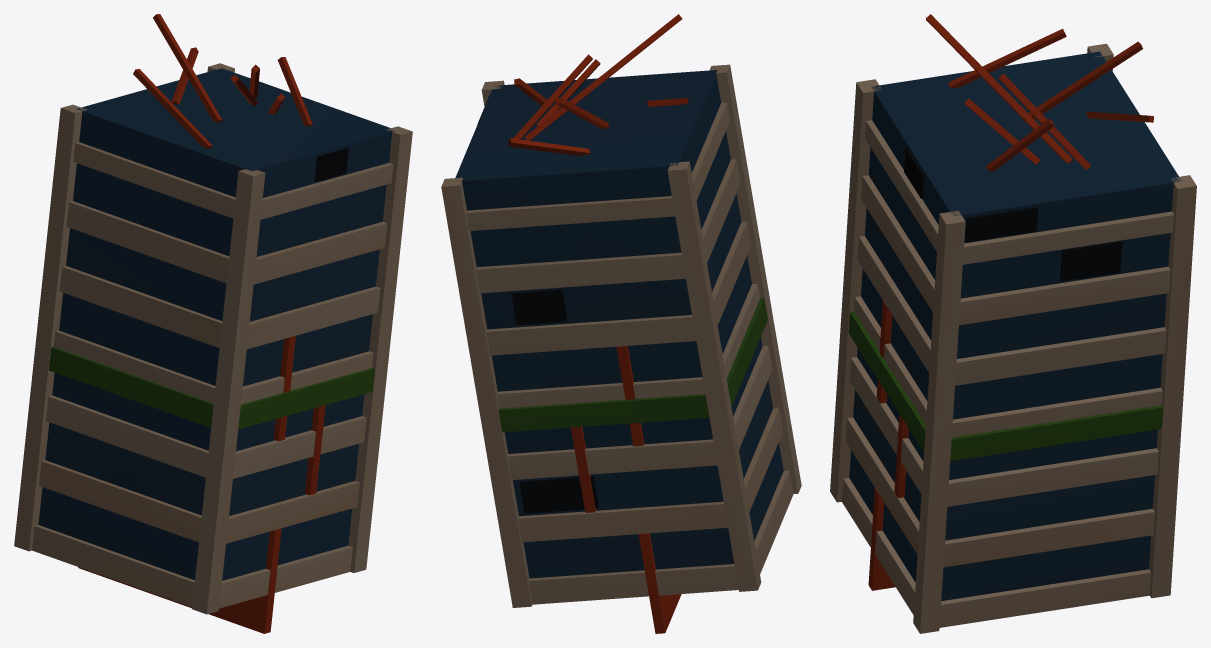
File: tb_tower_stump.glb
3 renders of one model, left to right at view 1: azimuth 30°, elevation 25°; view 2: azimuth 150°, elevation 25°; view 3: azimuth 270°, elevation 25°, orthographic. The views are drawn at different scales.
Parts seen in each view (by area): view 1: tower_stump_body; view 2: tower_stump_body; view 3: tower_stump_body.
Boxes of the visible parts, box(x1,y1,x2,y2) form: tower_stump_body: box(14, 14, 412, 633); tower_stump_body: box(441, 14, 801, 633); tower_stump_body: box(830, 14, 1196, 633).
Bounding box in the file's own units: 19.23 × 29.56 × 17.17.
